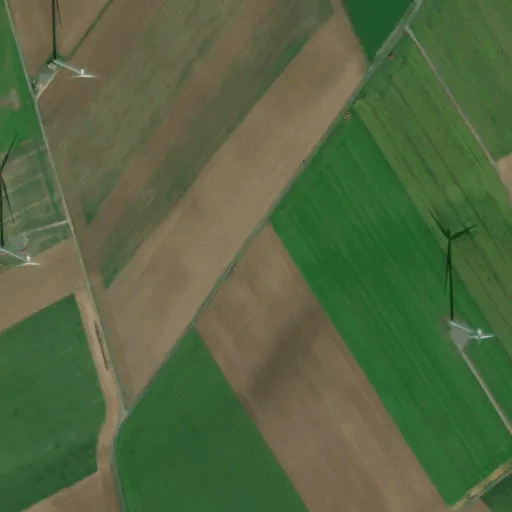wt: (423, 204, 498, 343), (1, 128, 44, 271), (41, 1, 104, 82)
